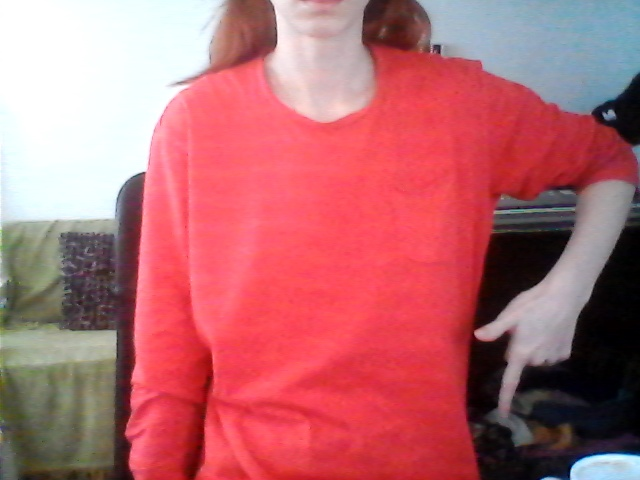policia: (447, 303, 590, 431)
